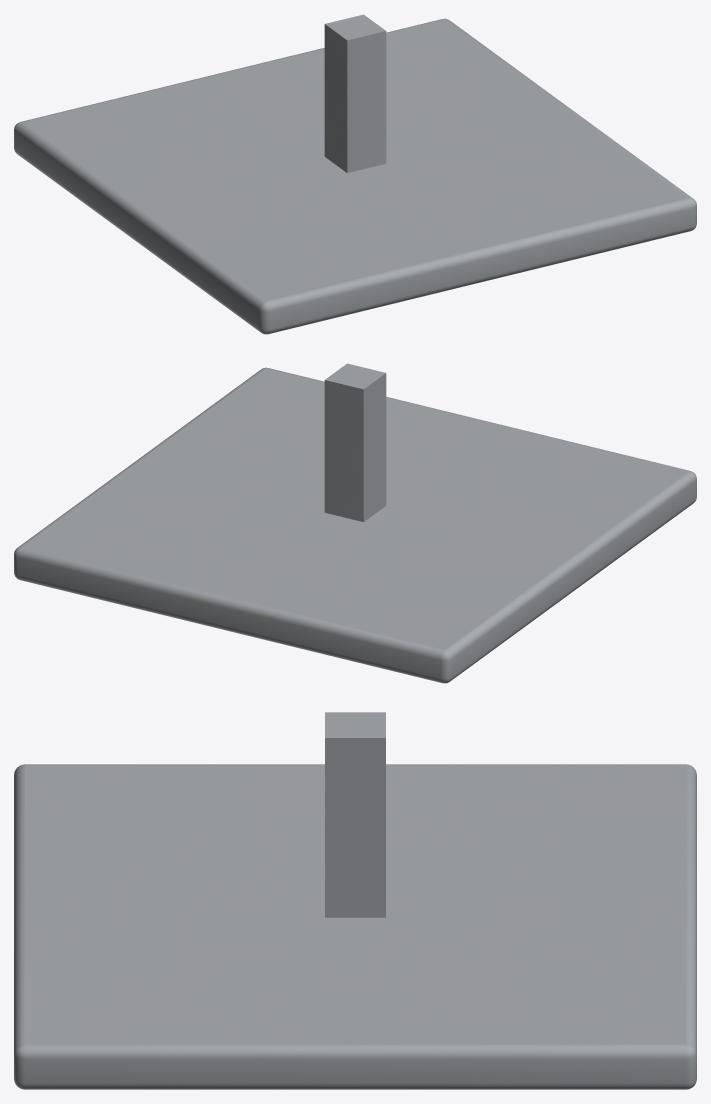
Rendered from CeliengLamp.fbx.
3 renders of one model, top to bottom at view 1: azimuth 30°, elevation 25°; view 2: azimuth 150°, elevation 25°; view 3: azimuth 270°, elevation 25°, orthographic. The views are drawn at different scales.
Visible parts, largest first — view 1: Lamp; view 2: Lamp; view 3: Lamp.
Boxes of the visible parts, x1=… form: Lamp: x1=14, y1=14, x2=696, y2=334; Lamp: x1=14, y1=363, x2=696, y2=683; Lamp: x1=14, y1=712, x2=696, y2=1089.
Bounding box in the file's own units: 64.34 × 23.29 × 64.34.
